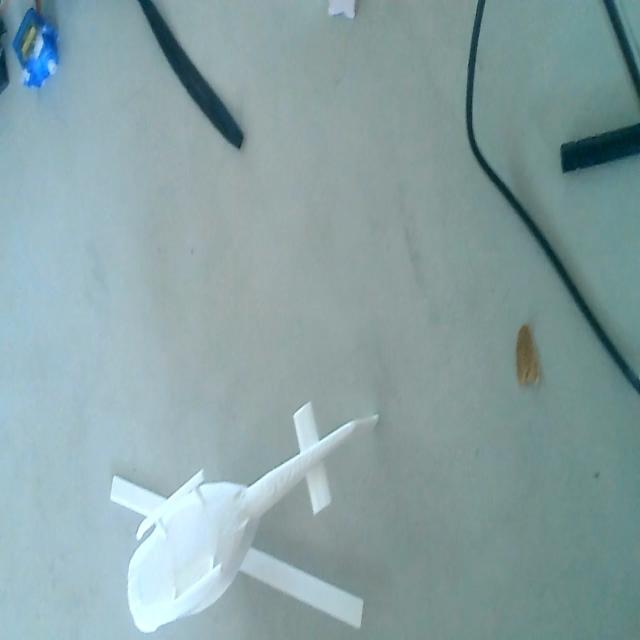Helicopter: (103, 410, 388, 640)
